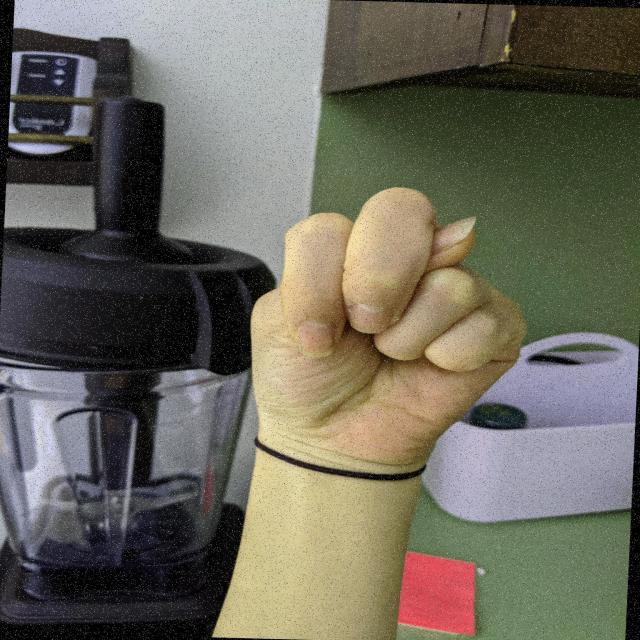N: (237, 178, 539, 465)
